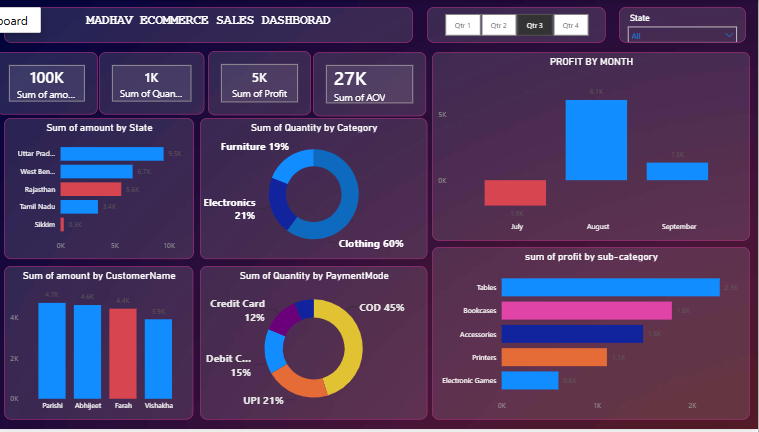

What the dashboard file says about the page in this screenshot:
{"tool":"powerbi","page":{"name":"Page 1","canvas":[1280,720],"ordinal":0},"visuals":[{"type":"textbox","box":[13,12,687,60],"z":0},{"type":"columnChart","title":"PROFIT BY MONTH","fields":{"Category":["Orders.Order Date.Variation.Date Hierarchy.Month"],"Y":["Sum(Details.Profit)"]},"box":[733,87,534,317],"z":1000},{"type":"barChart","title":"sum of profit by sub-category","fields":{"Category":["Details.Sub-Category"],"Y":["Sum(Details.Profit)"]},"box":[733,415,534,290],"z":2000},{"type":"donutChart","fields":{"Category":["Details.Category"],"Y":["Sum(Details.Quantity)"]},"box":[342,199,382,237],"z":3000},{"type":"donutChart","fields":{"Category":["Details.PaymentMode"],"Y":["Sum(Details.Quantity)"]},"box":[342,447,382,258],"z":4000},{"type":"cardVisual","fields":{"Data":["Sum(Details.amount)"]},"box":[0,87,171,105],"z":5000},{"type":"cardVisual","fields":{"Data":["Sum(Details.Quantity)"]},"box":[173,87,177,105],"z":6000},{"type":"cardVisual","fields":{"Data":["Sum(Details.Profit)"]},"box":[356.1,85.7,173,108],"z":7000},{"type":"cardVisual","fields":{"Data":["Sum(Details.AOV)"]},"box":[533,87,190,108],"z":8000},{"type":"barChart","fields":{"Category":["Orders.State"],"Y":["Sum(Details.amount)"]},"box":[13,199,319,237],"z":9000},{"type":"columnChart","fields":{"Category":["Orders.CustomerName"],"Y":["Sum(Details.amount)"]},"box":[13,447,318,258],"z":10000},{"type":"slicer","fields":{"Values":["Orders.Order Date.Variation.Date Hierarchy.Quarter"]},"box":[724,12,300,60],"z":11000},{"type":"slicer","fields":{"Values":["Orders.State"]},"box":[1047,12,213,60],"z":12000}]}

Visuals, with their boxes in screenshot pixels (x1, y1, x2, y2), scaled from the page's 1280x720 canvas onto the 759x432 screenshot:
textbox: 8 7 415 43
"PROFIT BY MONTH" columnChart: 435 52 751 242
"sum of profit by sub-category" barChart: 435 249 751 423
donutChart - Details.Category x Sum(Details.Quantity): 203 119 429 262
donutChart - Details.PaymentMode x Sum(Details.Quantity): 203 268 429 423
cardVisual - Sum(Details.amount): 0 52 101 115
cardVisual - Sum(Details.Quantity): 103 52 208 115
cardVisual - Sum(Details.Profit): 211 51 314 116
cardVisual - Sum(Details.AOV): 316 52 429 117
barChart - Orders.State x Sum(Details.amount): 8 119 197 262
columnChart - Orders.CustomerName x Sum(Details.amount): 8 268 196 423
slicer - Orders.Order Date.Variation.Date Hierarchy.Quarter: 429 7 607 43
slicer - Orders.State: 621 7 747 43
